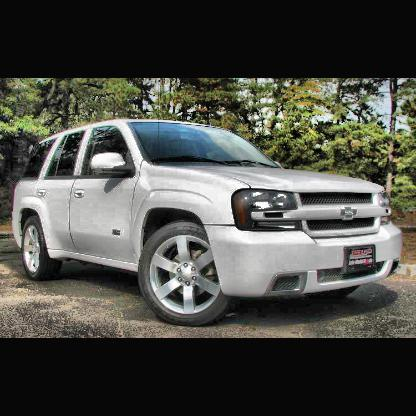Chevrolet TrailBlazer SS 2009: (12, 117, 405, 328)
